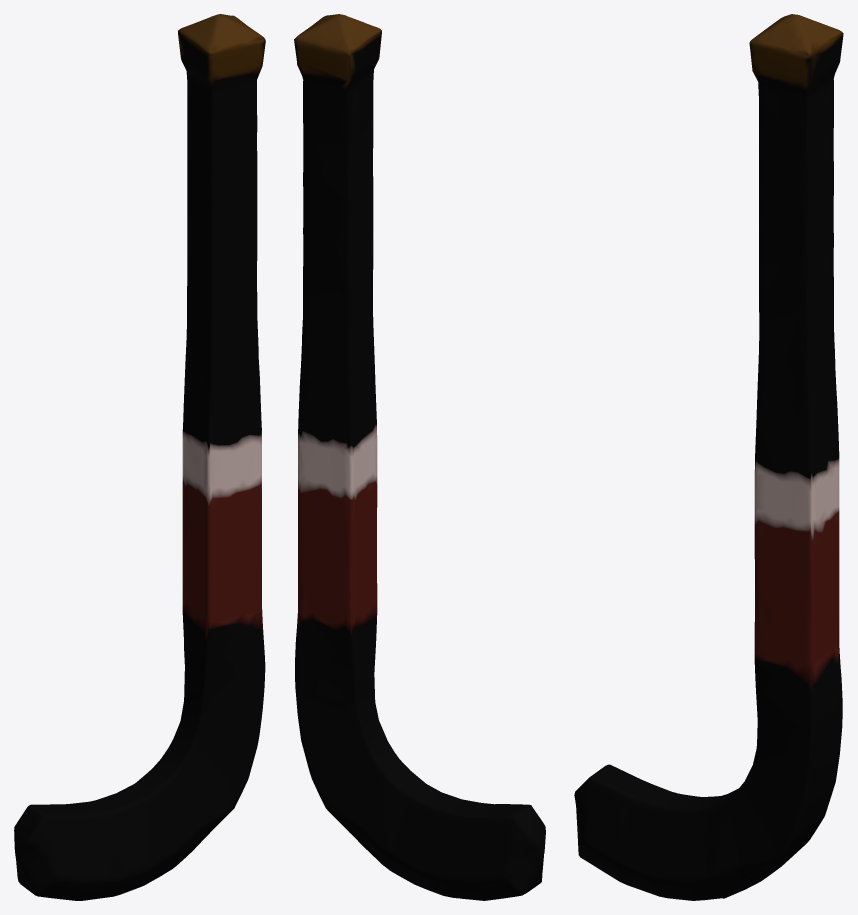
File: gen3d-hockey-stick-lod0.glb
3 views of the same model, side by side, from view 1: azimuth 30°, elevation 25°; view 2: azimuth 150°, elevation 25°; view 3: azimuth 330°, elevation 25° (orthographic). The views are drawn at different scales.
Parts seen in each view (by area): view 1: part_0; view 2: part_0; view 3: part_0.
Part boxes in pixels (x1,y1,x2,y2): part_0: (14,14,265,900); part_0: (294,14,545,900); part_0: (574,14,843,900).
Bounding box in the file's own units: 0.2918 × 0.9995 × 0.0701.
